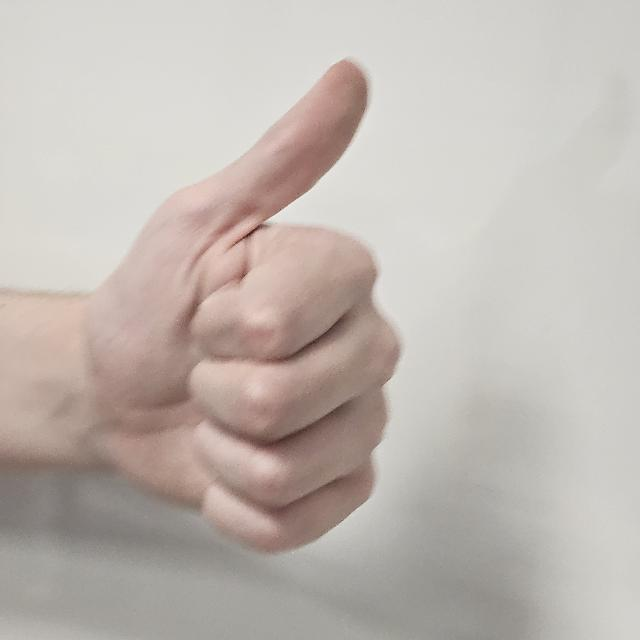Start: (94, 56, 402, 556)
